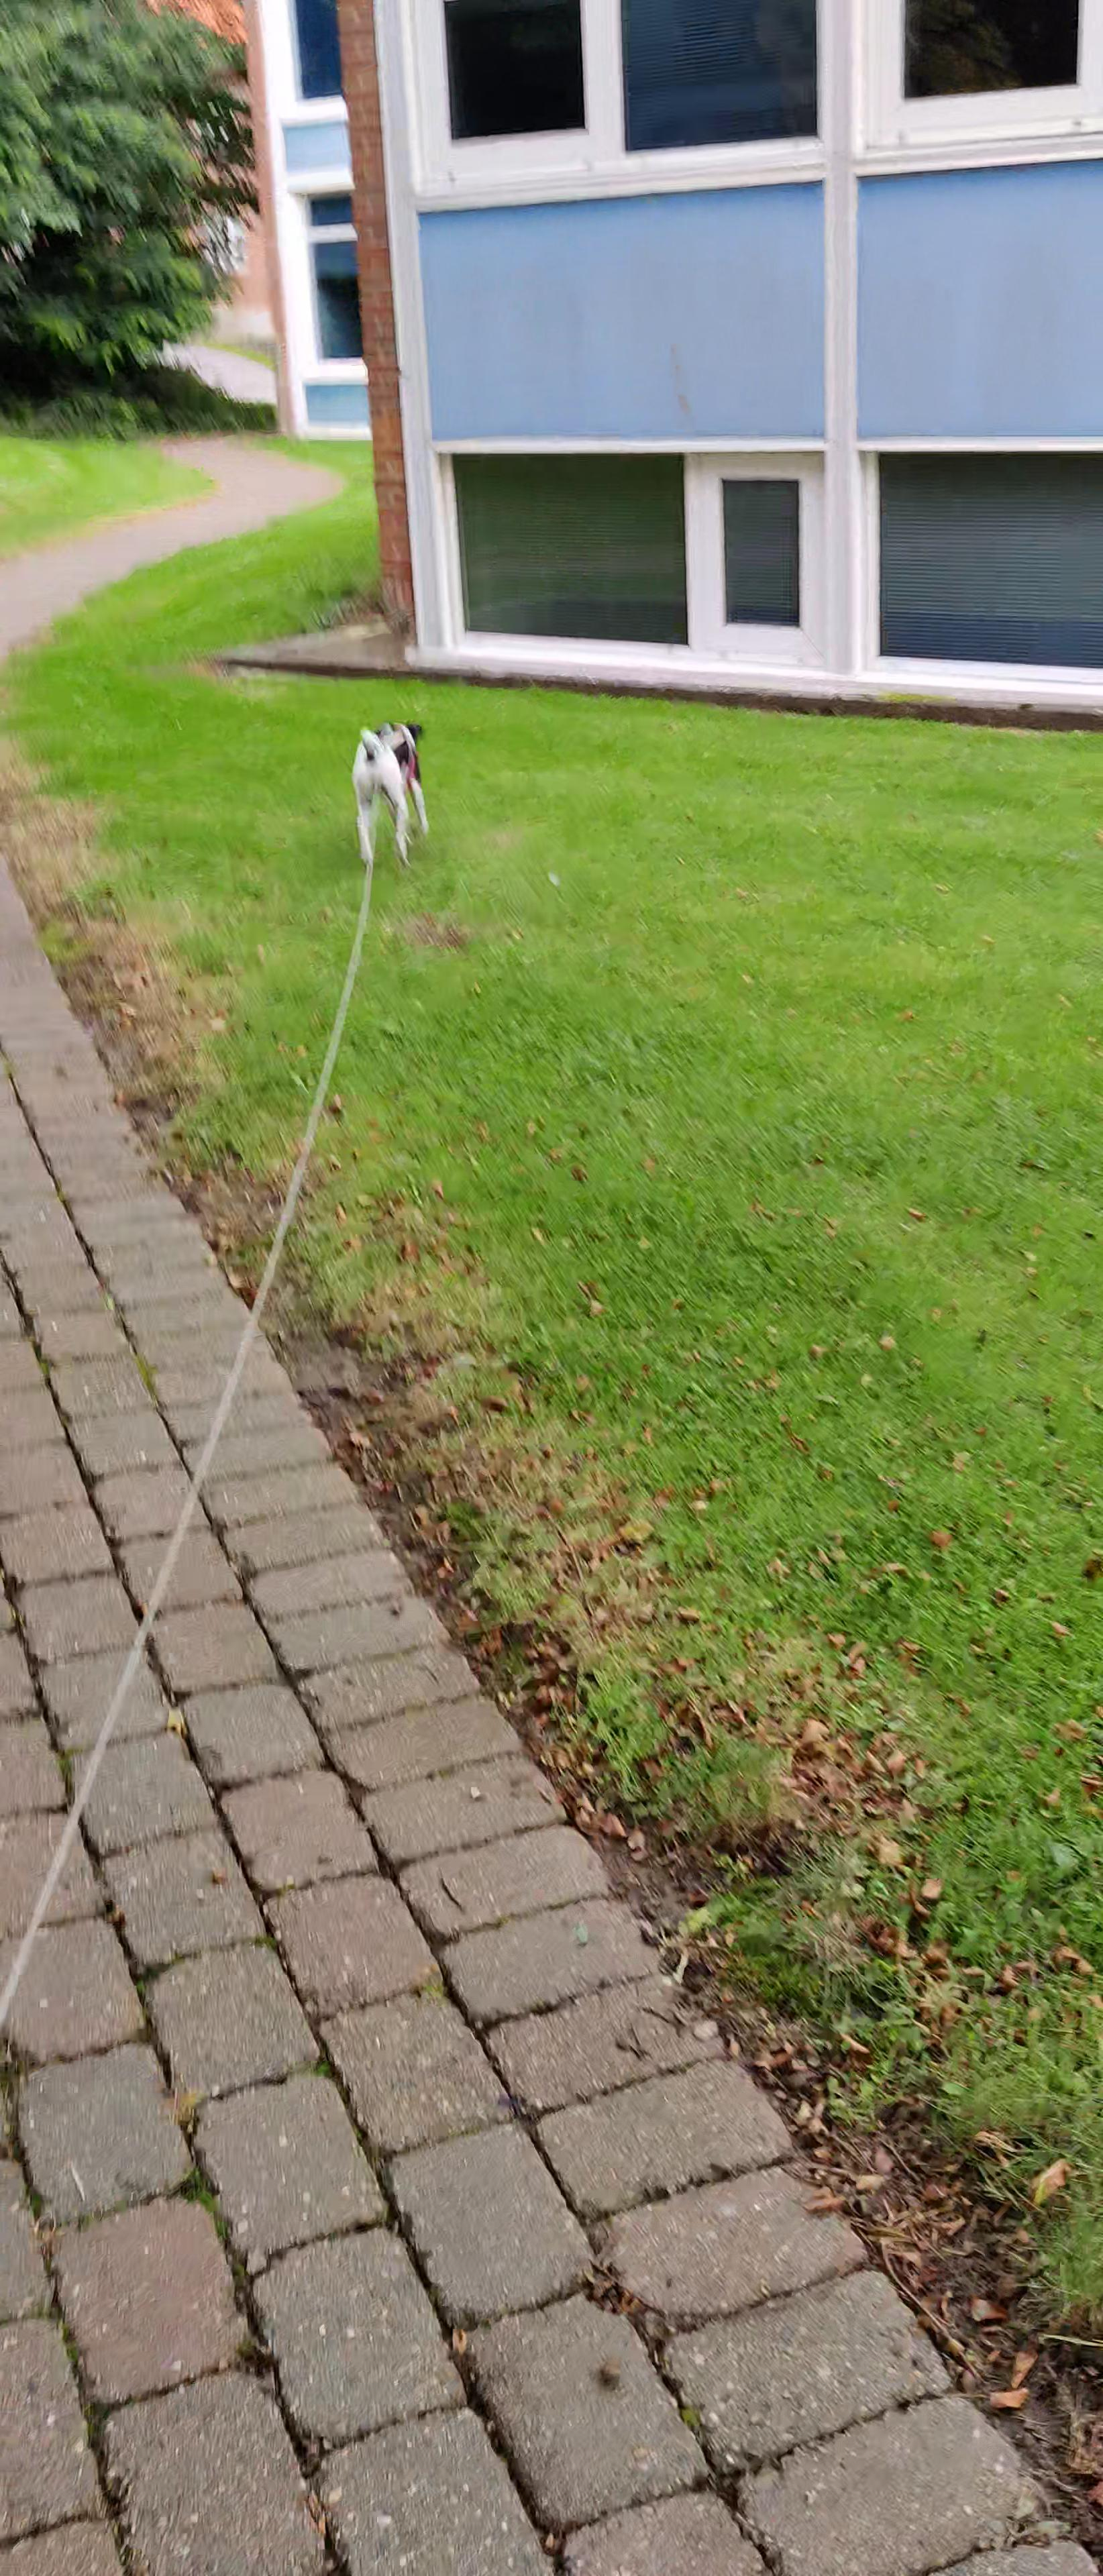Dog: (348, 718, 431, 872)
